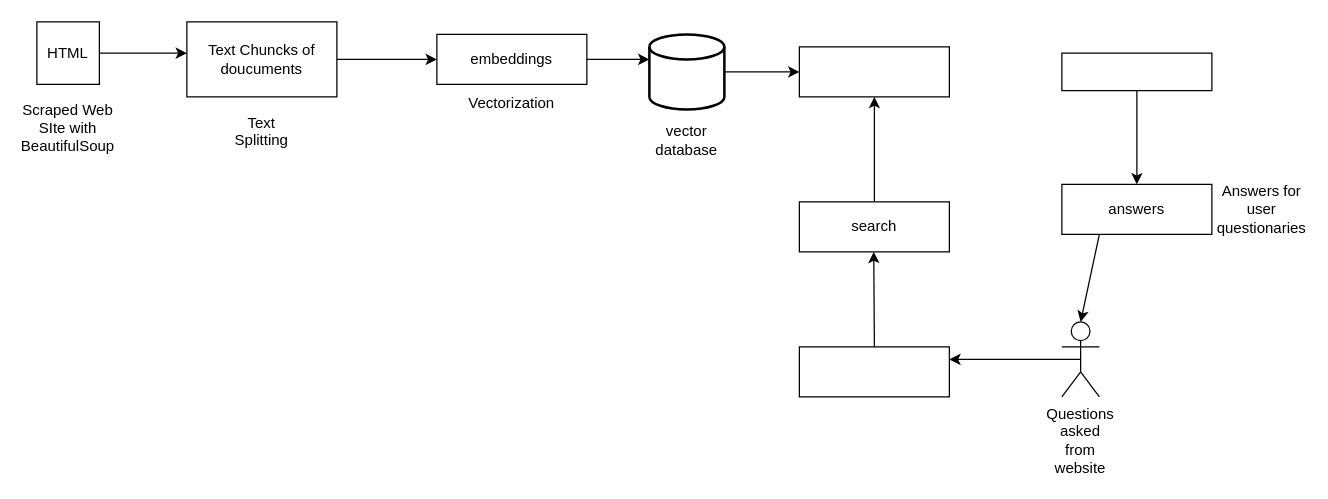
This 1328x499 diagram has some shape labels left out. Each missing label, with the centre of its shape:
"LLM" belongs at pixel 1136 71.
"question embedding" belongs at pixel 873 371.
"results" belongs at pixel 873 71.
